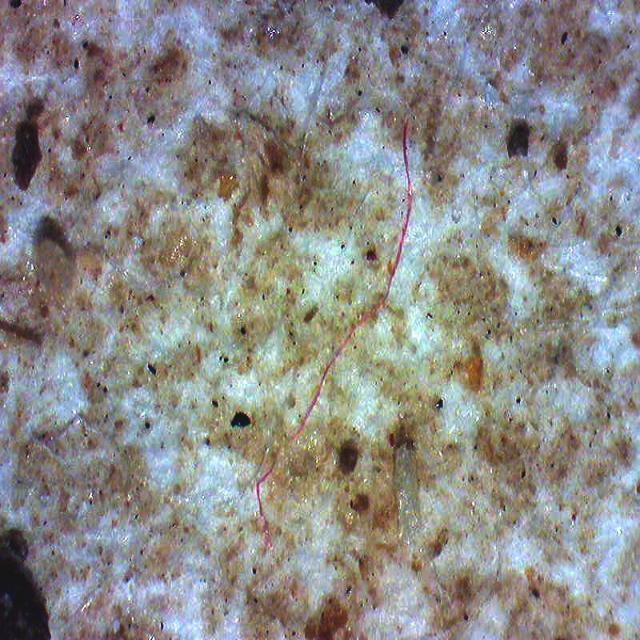microplastic: (255, 121, 412, 558)
